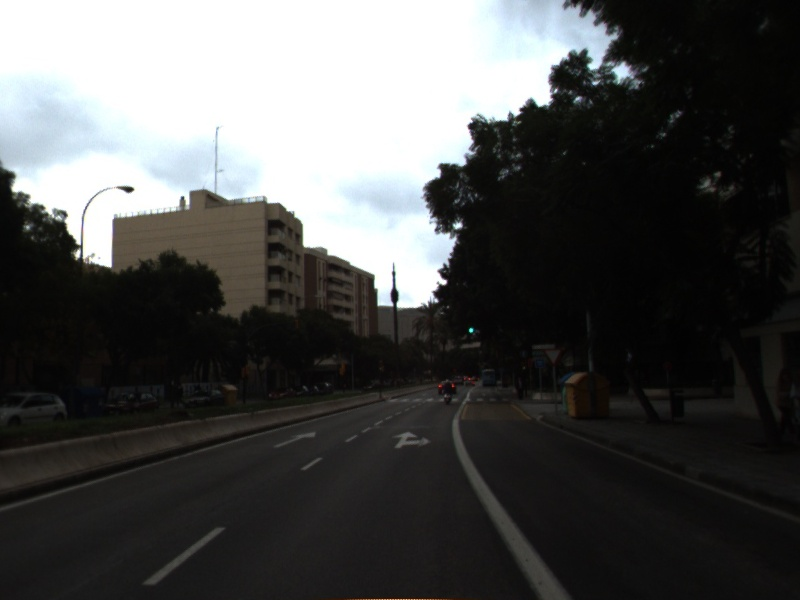STRAIGHT: (271, 430, 317, 450)
STRAIGHT_RIGHT: (390, 428, 434, 450)
